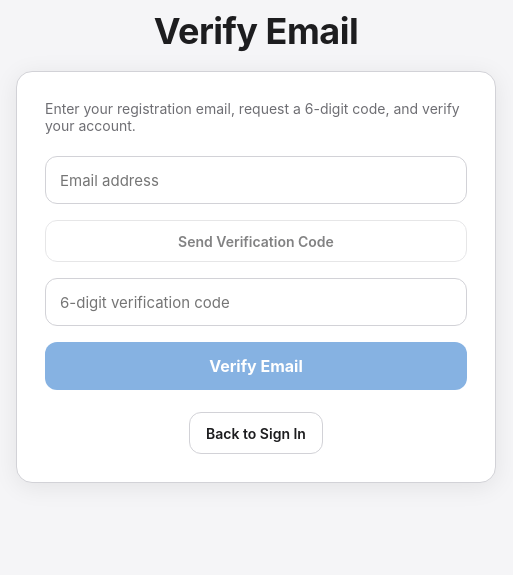
Test: VerifyEmailPage › sends verification code
Type "verify@example.com" into the field with placeholder "Email address" at {"x": 256, "y": 180}, box [45,156,467,204]
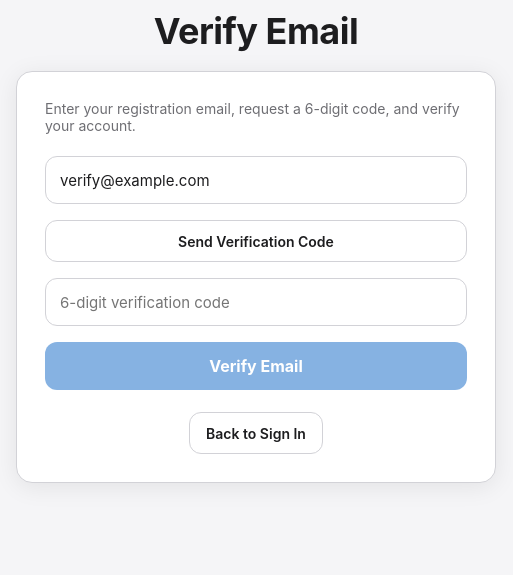
Click the button "Send Verification Code" at {"x": 256, "y": 241}, box [45,220,467,262]
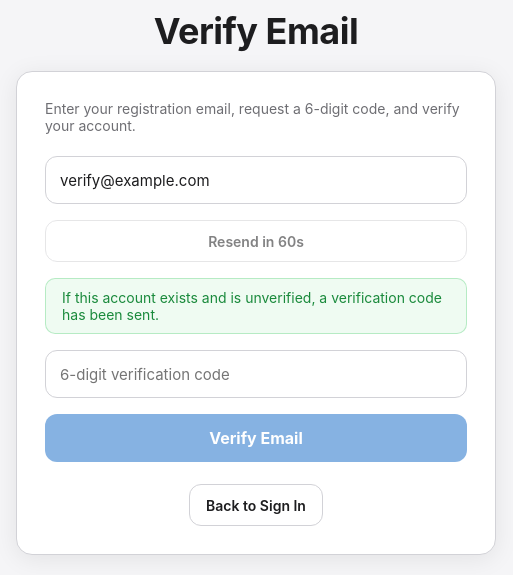
Result: the text "If this account exists and is unverified, a verification code has been sent." is shown at [45,278,467,334]
